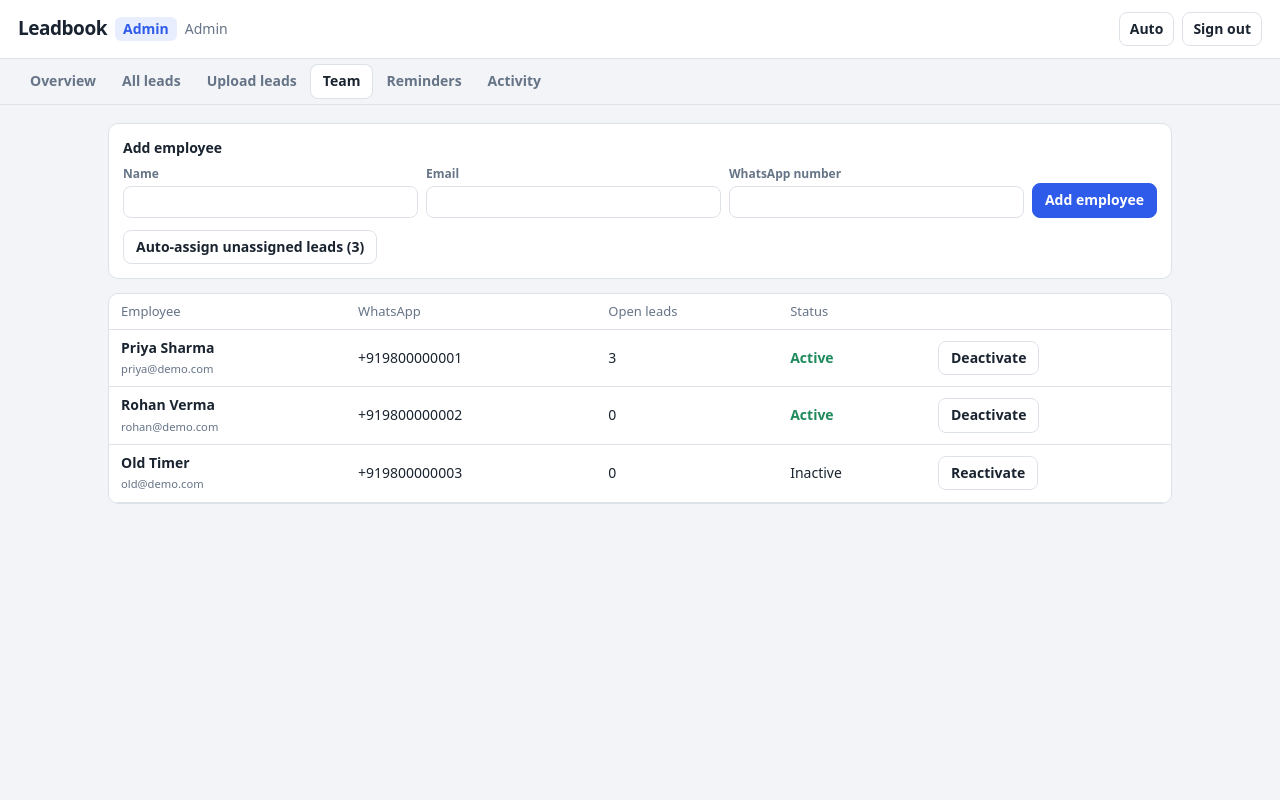
Test case: Team (7.5) › lists employees only, with status, and confirms before deactivating
This screenshot has width=1280, height=800.
Expected: the text "Priya Sharma" is shown, [121,338,214,357]
Expected: the text "Inactive" is shown, [778,444,926,502]
Click the button with aria-label "Deactivate Priya Sharma" at [989, 358], box [938,341,1039,375]
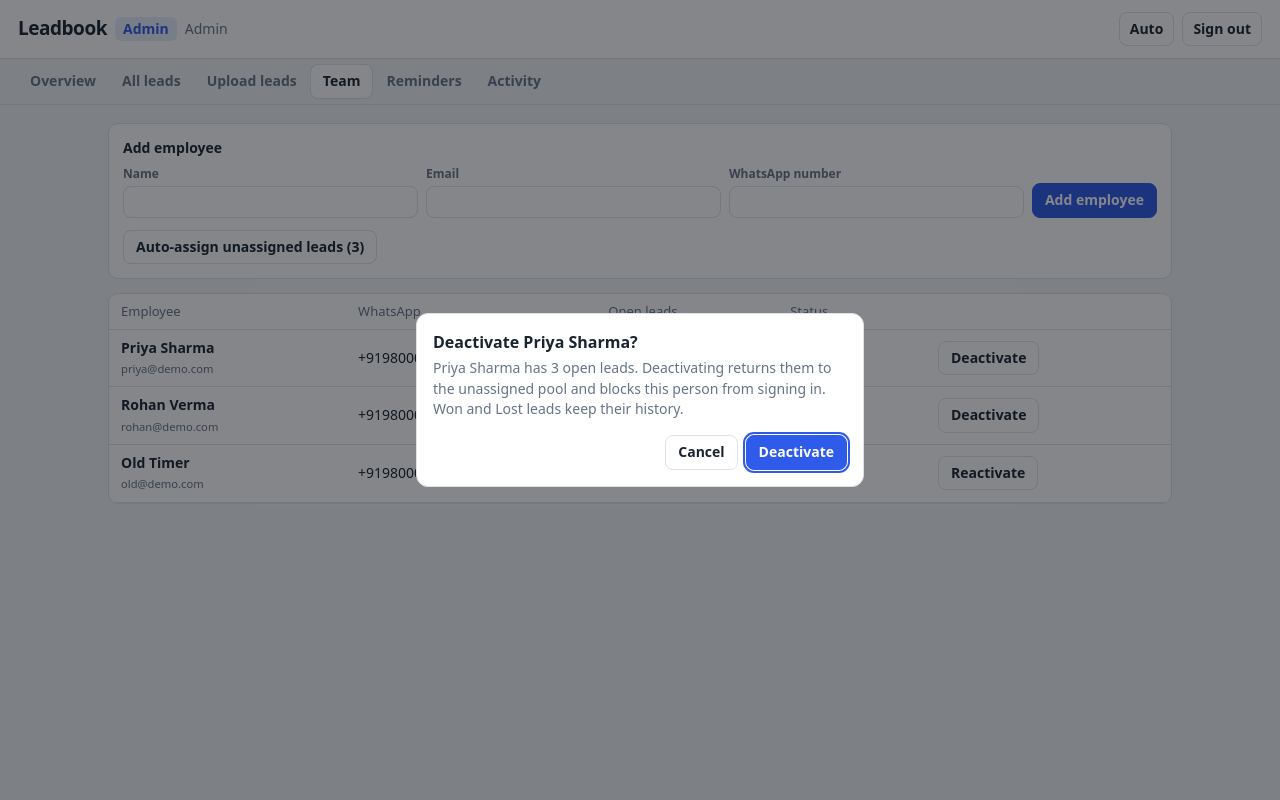
Expected: the dialog shows "3 open leads", [433,358,832,418]
Click the button "Cancel" at [701, 452], box [665,435,738,470]
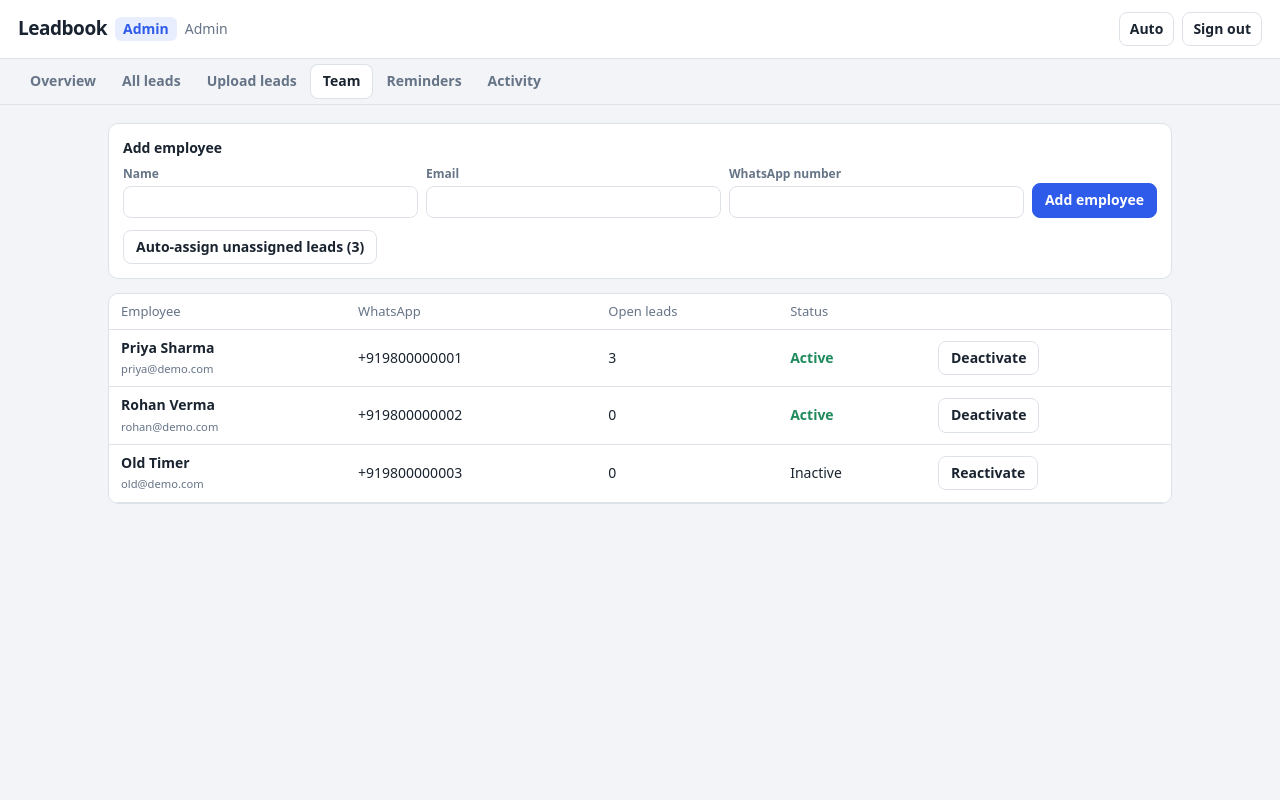
Click the button with aria-label "Deactivate Priya Sharma" at [989, 358], box [938,341,1039,375]
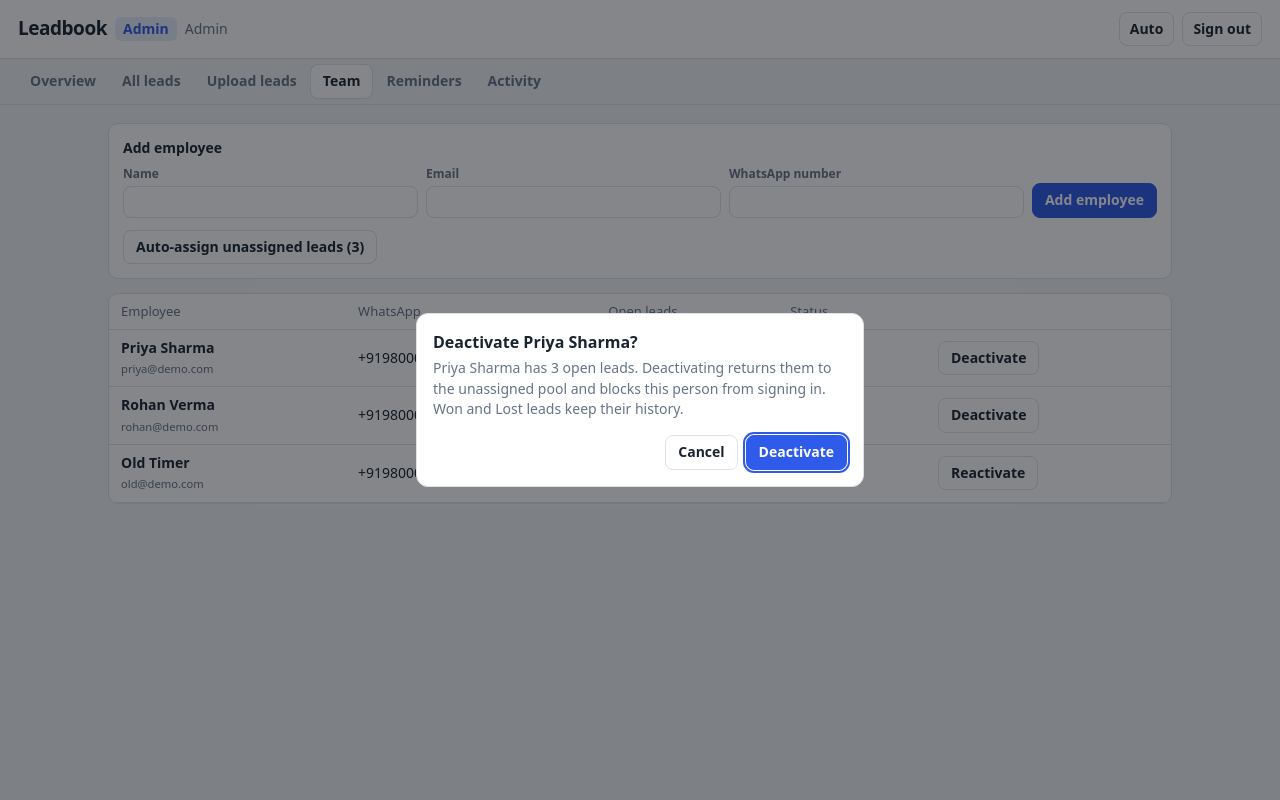
Click the button "Deactivate" at [796, 452], box [746,435,847,470]
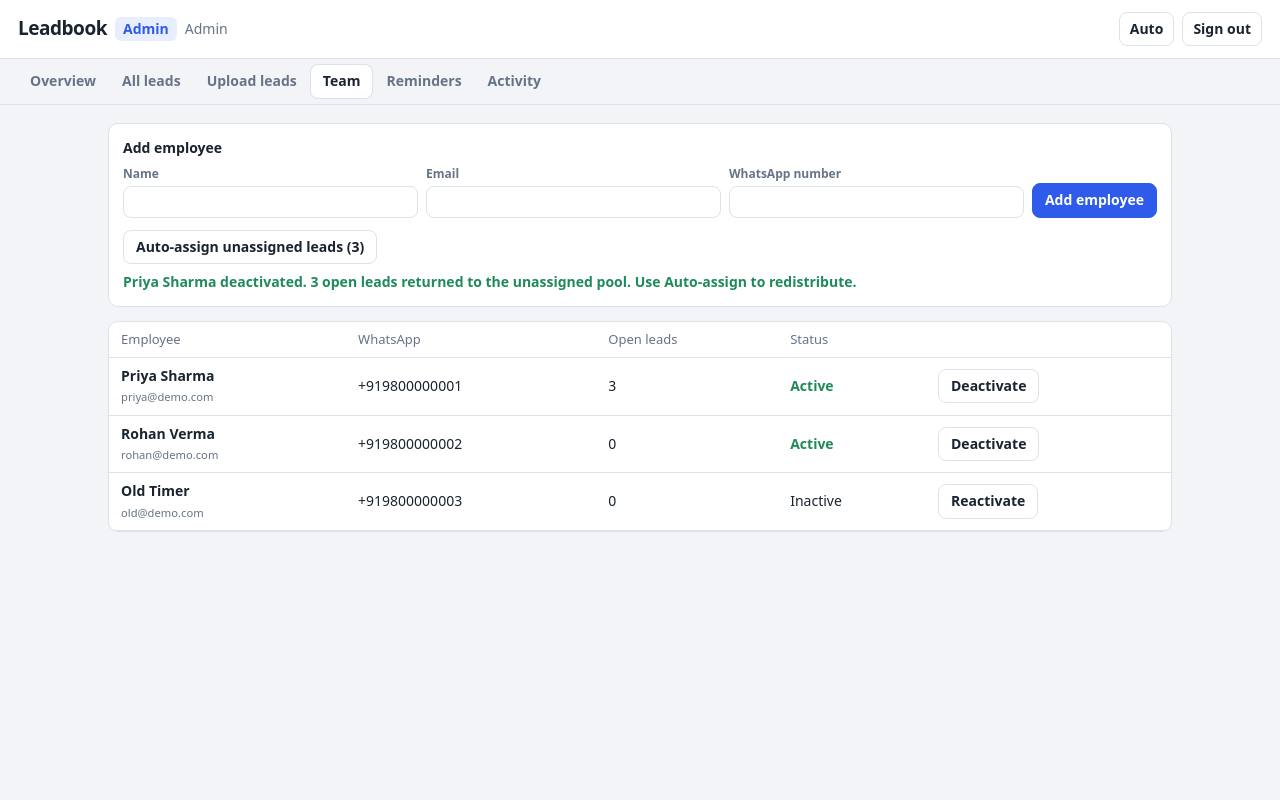
Expected: the text "3 open leads returned to the unassigned pool" is shown, [123,272,856,291]
